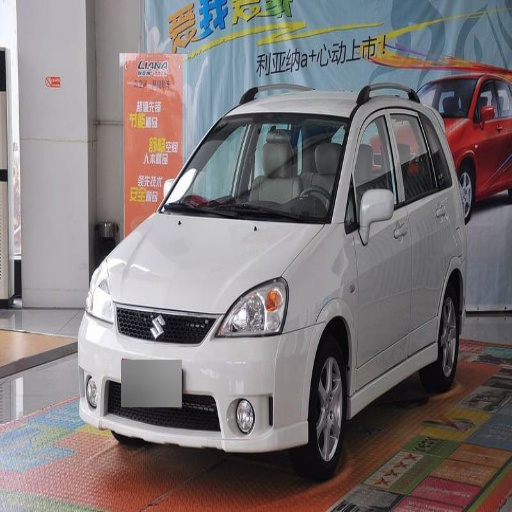front_bumper: (83, 300, 321, 453)
front_glass: (160, 116, 351, 222)
front_left_door: (352, 109, 412, 391)
front_right_light: (85, 265, 114, 322)
